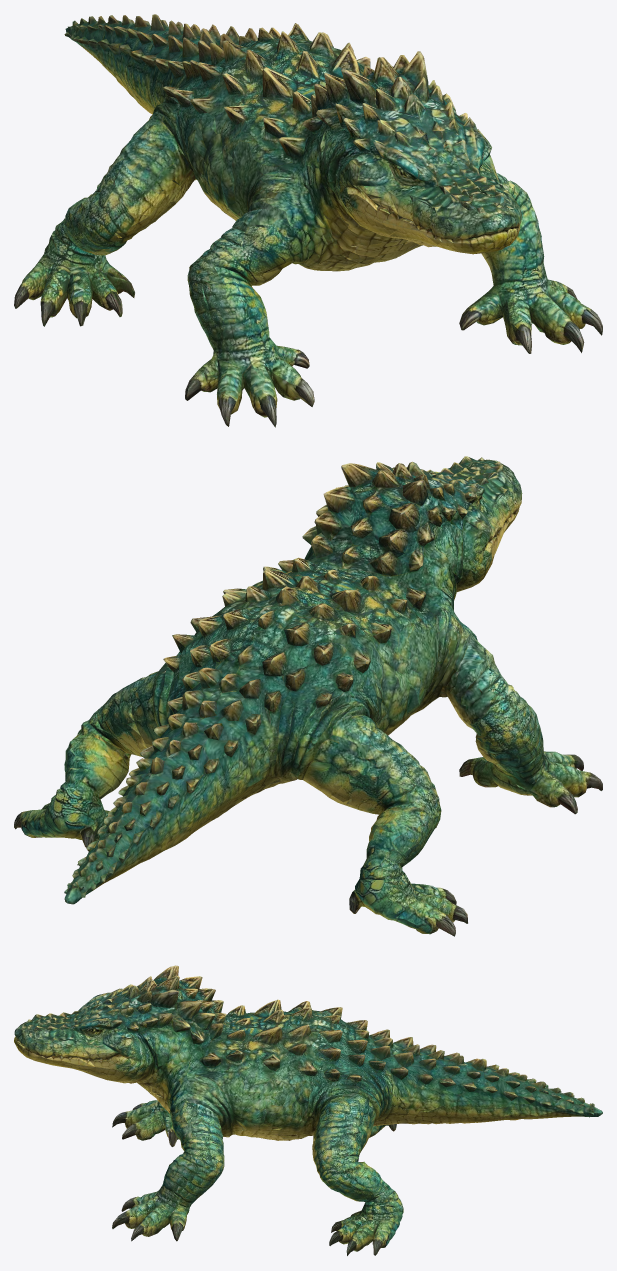
File: mudsnapper.glb
3 views of the same model, one above another, from view 1: azimuth 30°, elevation 25°; view 2: azimuth 150°, elevation 25°; view 3: azimuth 270°, elevation 25° (orthographic). The views are drawn at different scales.
Parts seen in each view (by area): view 1: Mesh_0; view 2: Mesh_0; view 3: Mesh_0.
Part boxes in pixels (x1,y1,x2,y2): Mesh_0: (14,14,602,427); Mesh_0: (14,456,602,936); Mesh_0: (14,965,602,1255).
Size of the model in its own units: 1.12 by 0.7489 by 1.9.
Materials: 1 (1 with a texture image).
